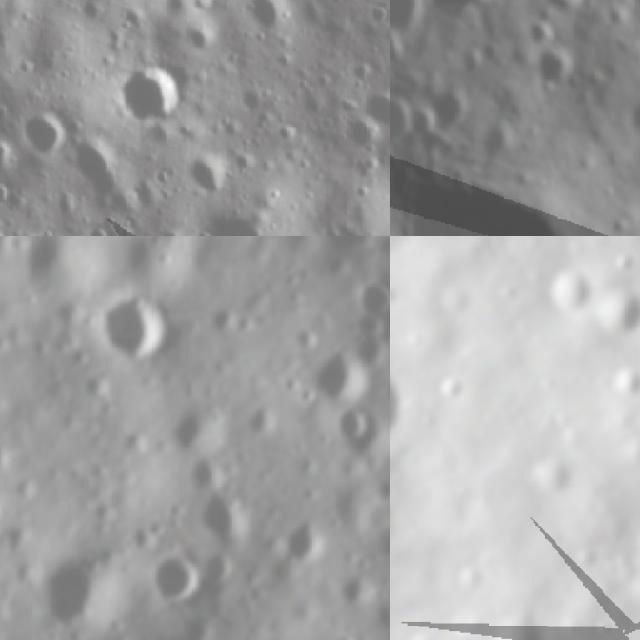crater: (19, 538, 139, 640), (80, 276, 192, 384), (403, 178, 585, 236), (294, 334, 389, 430), (175, 477, 269, 568), (152, 390, 238, 474), (132, 540, 217, 623), (533, 250, 613, 331), (514, 432, 593, 513), (92, 67, 179, 133), (390, 339, 430, 475), (579, 266, 640, 355), (268, 508, 342, 581), (320, 560, 389, 629), (321, 397, 390, 466), (195, 199, 308, 236), (336, 261, 390, 332), (296, 236, 384, 278), (14, 108, 79, 164), (597, 343, 640, 408), (240, 0, 301, 44), (430, 81, 477, 133), (419, 0, 500, 28), (182, 150, 228, 197), (537, 45, 584, 91), (390, 0, 437, 38), (519, 10, 561, 50), (362, 84, 390, 142), (390, 89, 415, 144), (0, 0, 11, 97)
